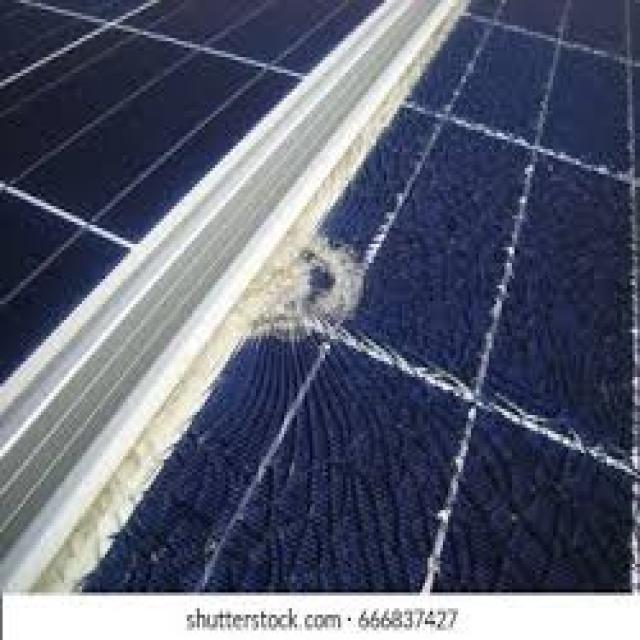faulty: (23, 0, 639, 588)
